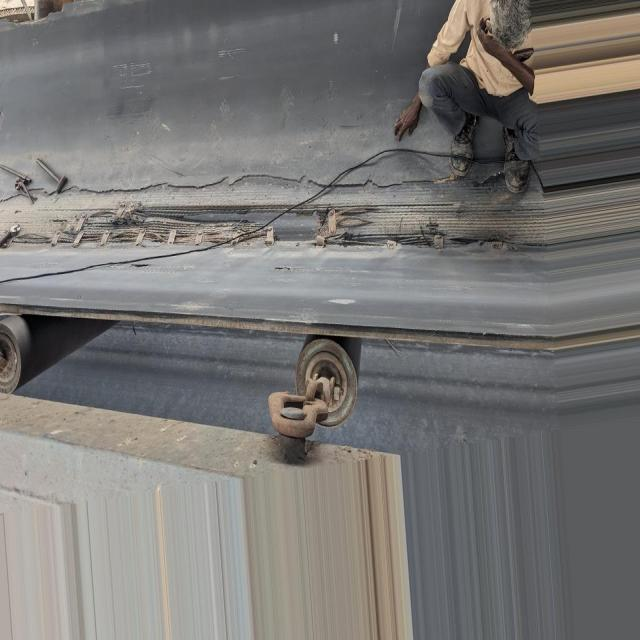Human: (391, 0, 541, 193)
Other Objects: (14, 157, 70, 207)
Roller: (0, 317, 110, 392), (301, 337, 362, 428)
Tear: (2, 175, 489, 253)
